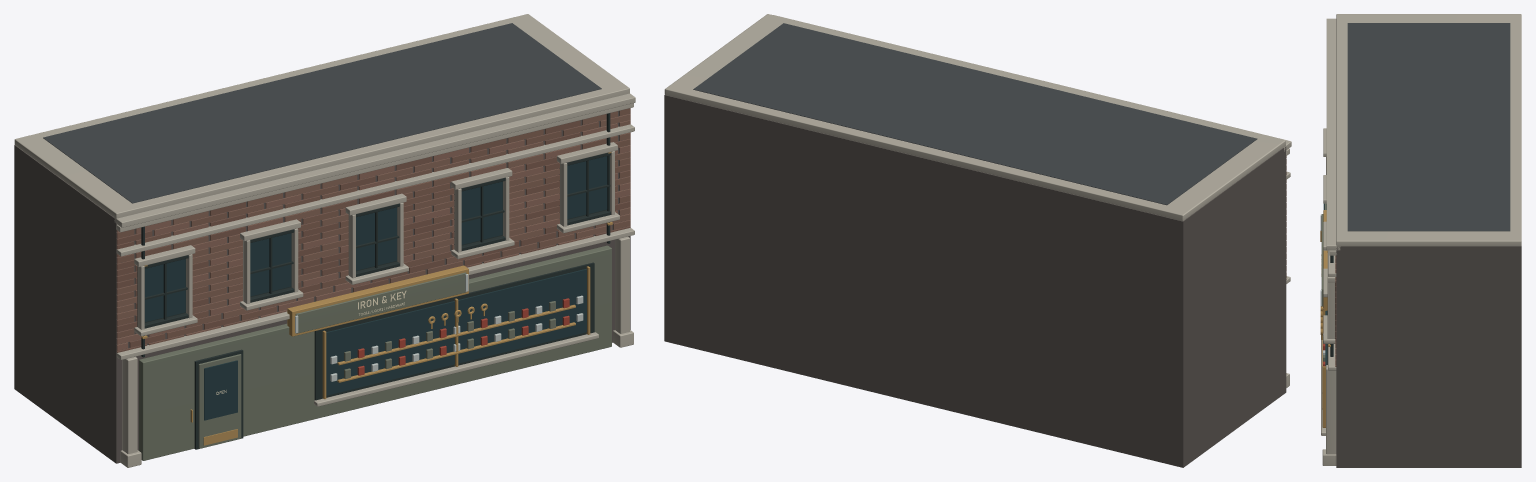
The model's file is district-iron-key.glb.
3 views of the same model, side by side, from view 1: azimuth 30°, elevation 25°; view 2: azimuth 150°, elevation 25°; view 3: azimuth 270°, elevation 25° (orthographic). The views are drawn at different scales.
Parts seen in each view (by area): view 1: District Roof membrane, District Warm limestone, Existing envelope, District Opaque dark glazing, District Coffee enamel, Roof cap, District Brick tone 3, District Charcoal painted metal, District Brick tone 0, District Brick tone 4, District Brick tone 1, District Brick tone 2 (+6 smaller); view 2: Existing envelope, District Roof membrane, Roof cap, District Warm limestone; view 3: Existing envelope, District Roof membrane, Roof cap, District Warm limestone, District Aged brass, Sign enamel inset.
Part boxes in pixels (x1,y1,x2,y2): District Roof membrane: (43,23,601,203); District Warm limestone: (114,93,635,467); Existing envelope: (14,111,630,463); District Opaque dark glazing: (145,156,607,420); District Coffee enamel: (139,245,611,460); Roof cap: (14,14,629,218); District Brick tone 3: (116,114,630,333); District Charcoal painted metal: (137,113,610,449); District Brick tone 0: (116,120,630,352); District Brick tone 4: (116,123,630,350); District Brick tone 1: (116,108,630,338); District Brick tone 2: (116,111,630,345); Existing envelope: (664,95,1286,467); District Roof membrane: (693,23,1257,205); Roof cap: (664,14,1285,220); District Warm limestone: (773,15,1291,387); Existing envelope: (1336,246,1521,467); District Roof membrane: (1347,23,1510,231); Roof cap: (1336,14,1521,246); District Warm limestone: (1321,18,1340,465); District Aged brass: (1320,231,1330,427); Sign enamel inset: (1321,214,1323,306).
Bounding box in the file's own units: 15.7 × 7.31 × 5.87.
